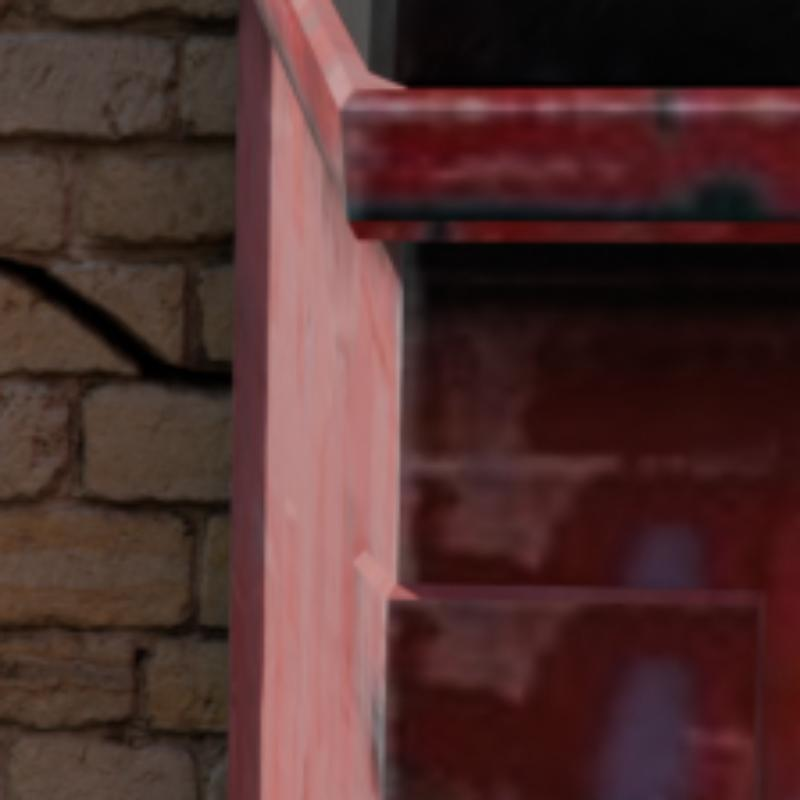crack: (0, 254, 229, 396)
